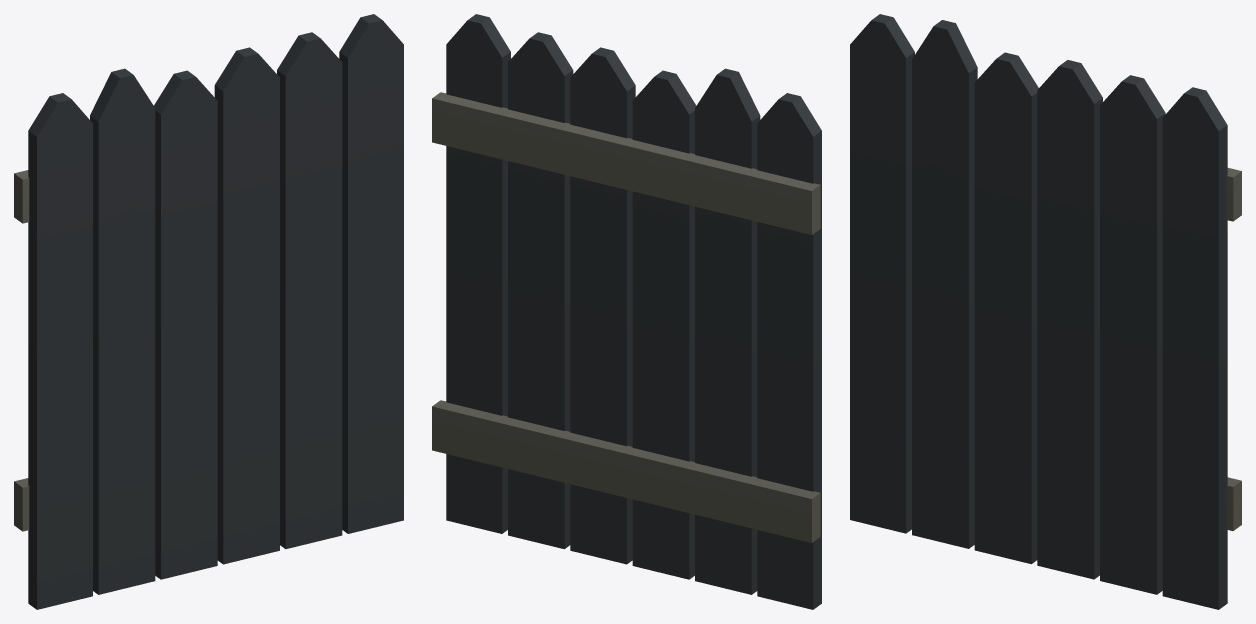
The model's file is Fence_04.fbx.
3 renders of one model, left to right at view 1: azimuth 30°, elevation 25°; view 2: azimuth 150°, elevation 25°; view 3: azimuth 330°, elevation 25°, orthographic.
Visible parts, largest first — view 1: Fence_04; view 2: Fence_04; view 3: Fence_04.
Boxes of the visible parts, left/top/right/bottom form: Fence_04: left=14, top=14, right=403, bottom=609; Fence_04: left=432, top=14, right=821, bottom=609; Fence_04: left=850, top=14, right=1241, bottom=609.
Size of the model in its own units: 1.02 by 1.31 by 0.0766.
